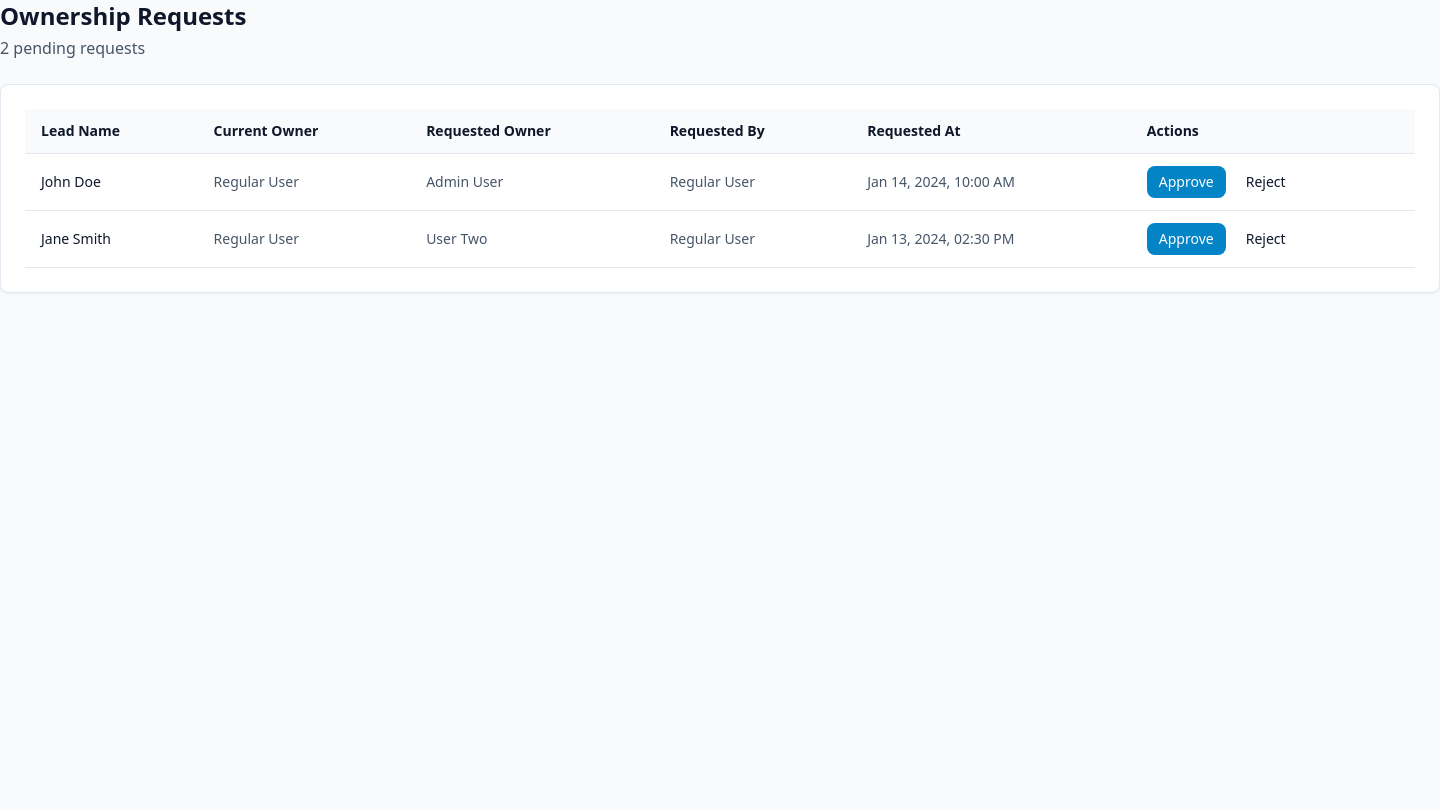
OwnershipRequests › Approve Flow › opens approve modal when approve button clicked
Check: the text "John Doe" is shown, box [41,172,101,191]
What coordinates should you click on to do the following:
click the button "Approve" in the row of "John Doe"
I would click on:
 (1186, 182)
Its box is [1147,166,1226,198].
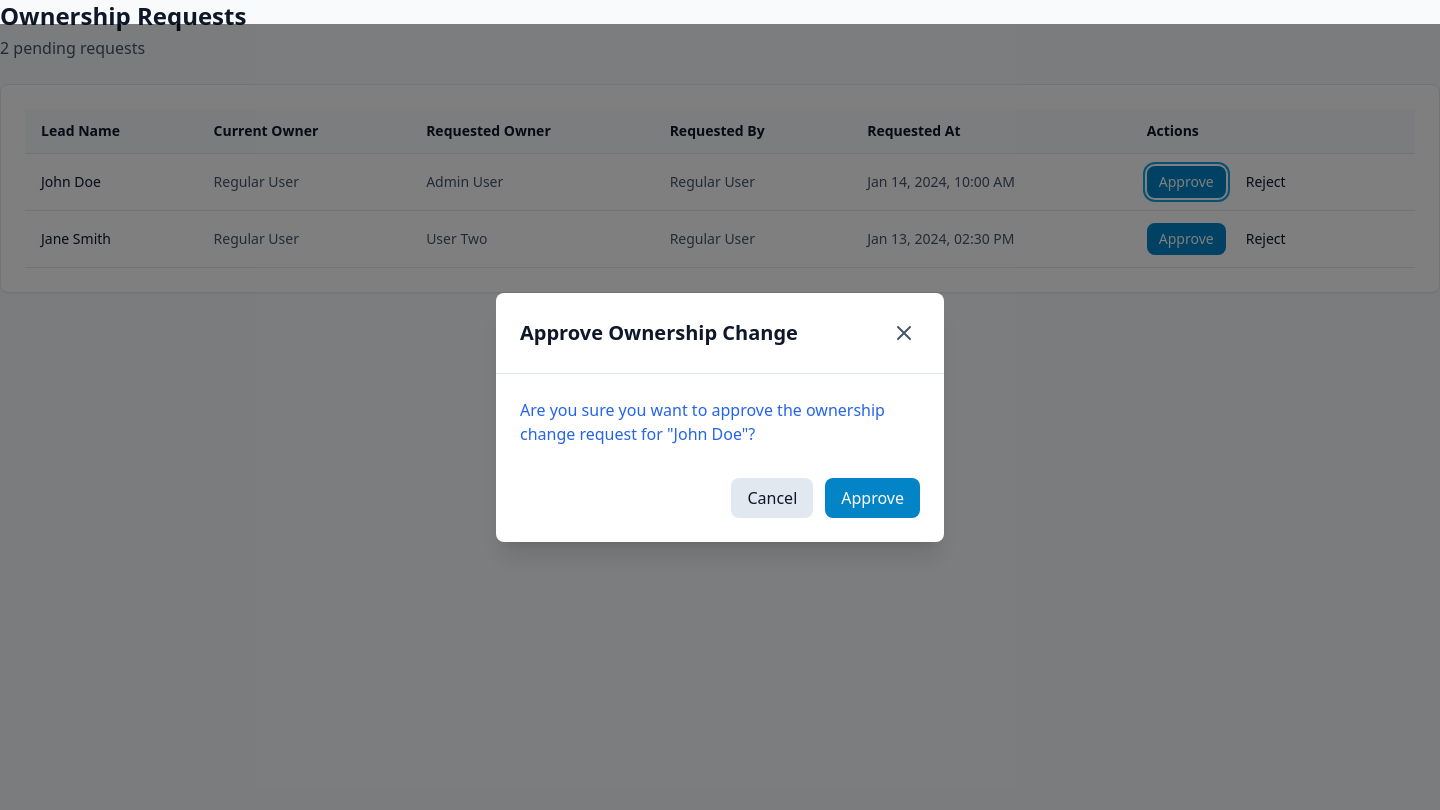
Check: the heading "Approve Ownership Change" is shown, box [520,318,798,346]
